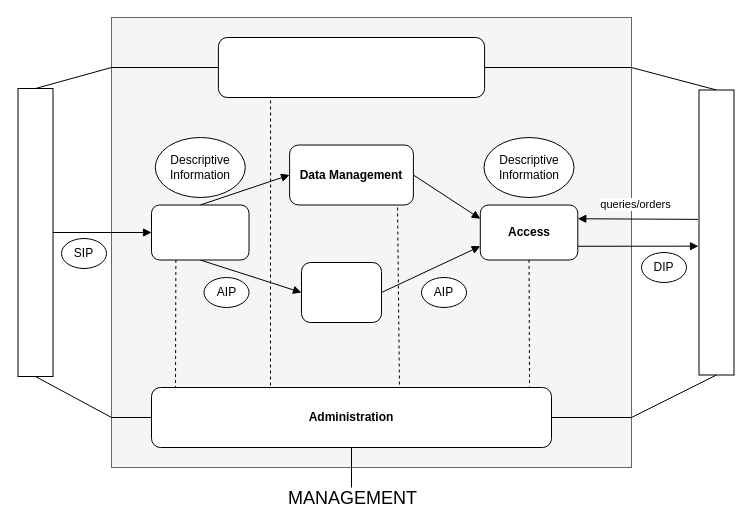
The diagram is 751 pixels wide and 526 high, and some of its shapes have lost their labels. Each missing label, with the centre of its shape:
"Archival Storage" goes at (341,292).
"CONSUMER" goes at (716,232).
"Ingest" goes at (199,232).
"Preservation Planning" goes at (351,67).
"PRODUCER" goes at (35,232).
